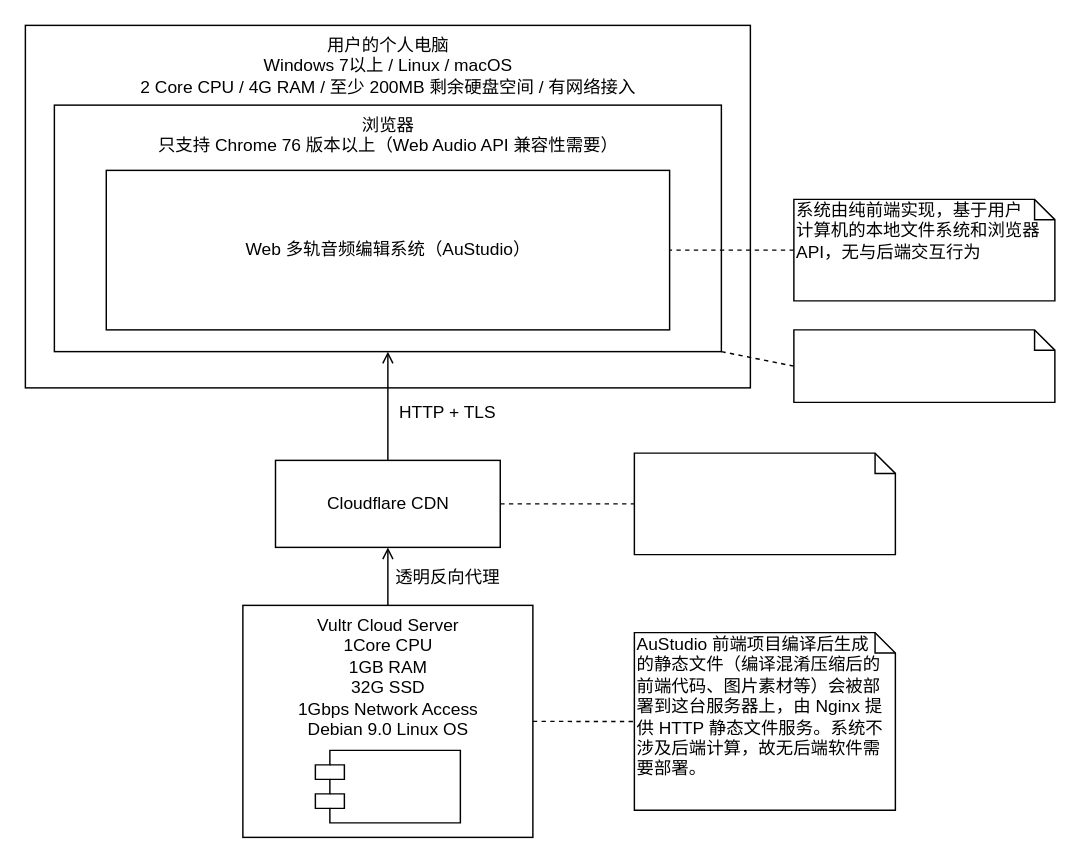
Image size: 1080x863. Some labels were removed from this diagram. Here are the shapes that lost their labels. From the top down, the centre of each, then its label:
At point (923, 365): "浏览器从 CDN 获取前端代码、 资源，执行渲染前端代码，并提供系统所需要的 API".
At point (764, 503): "使用 Cloudflare 提供的 CDN 服务，加速静态文件分发".
At point (387, 786): "nginx/1.10.3".
